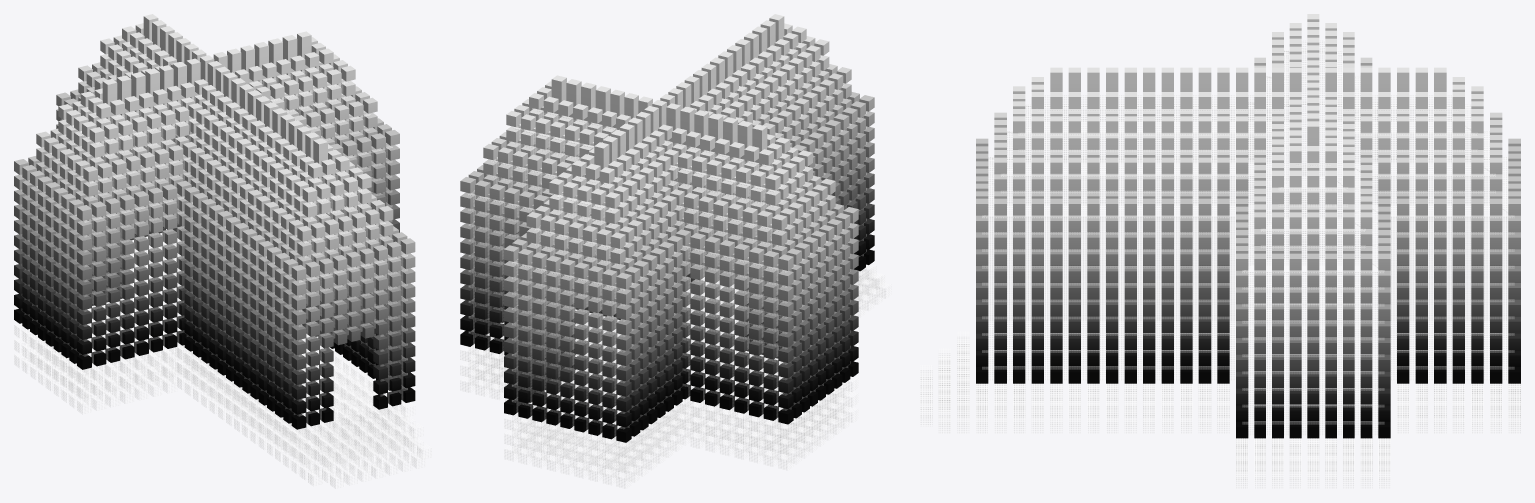
3 views of the same model, side by side, from view 1: azimuth 30°, elevation 25°; view 2: azimuth 150°, elevation 25°; view 3: azimuth 270°, elevation 25° (orthographic). The views are drawn at different scales.
Parts seen in each view (by area): view 1: cubes, Merged Objects 4; view 2: cubes, Merged Objects 4; view 3: cubes, Merged Objects 4.
Part boxes in pixels (<box>): cubes: <box>14,14,415,429</box>; Merged Objects 4: <box>14,43,431,488</box>; cubes: <box>460,14,874,442</box>; Merged Objects 4: <box>460,44,891,488</box>; cubes: <box>976,14,1520,438</box>; Merged Objects 4: <box>920,41,1520,488</box>.
Size of what is drawn, in the model's own units: 31.9 by 28.09 by 46.19.
Materials: 2 (1 with a texture image).
